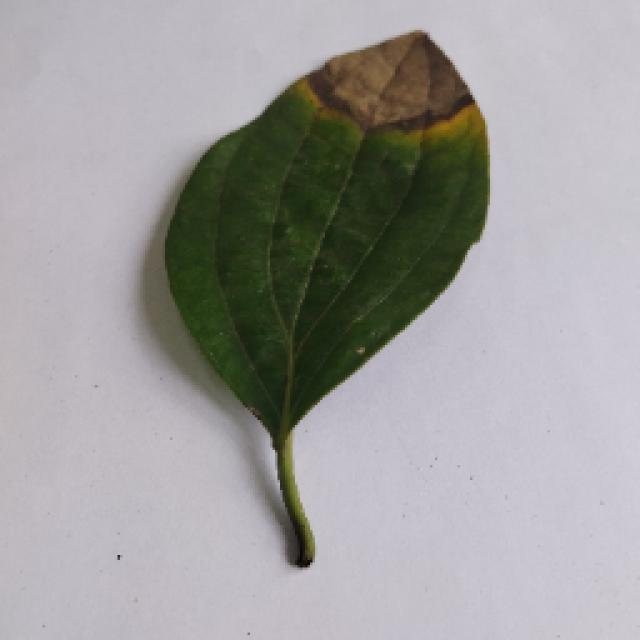footrot: (152, 30, 492, 565)
